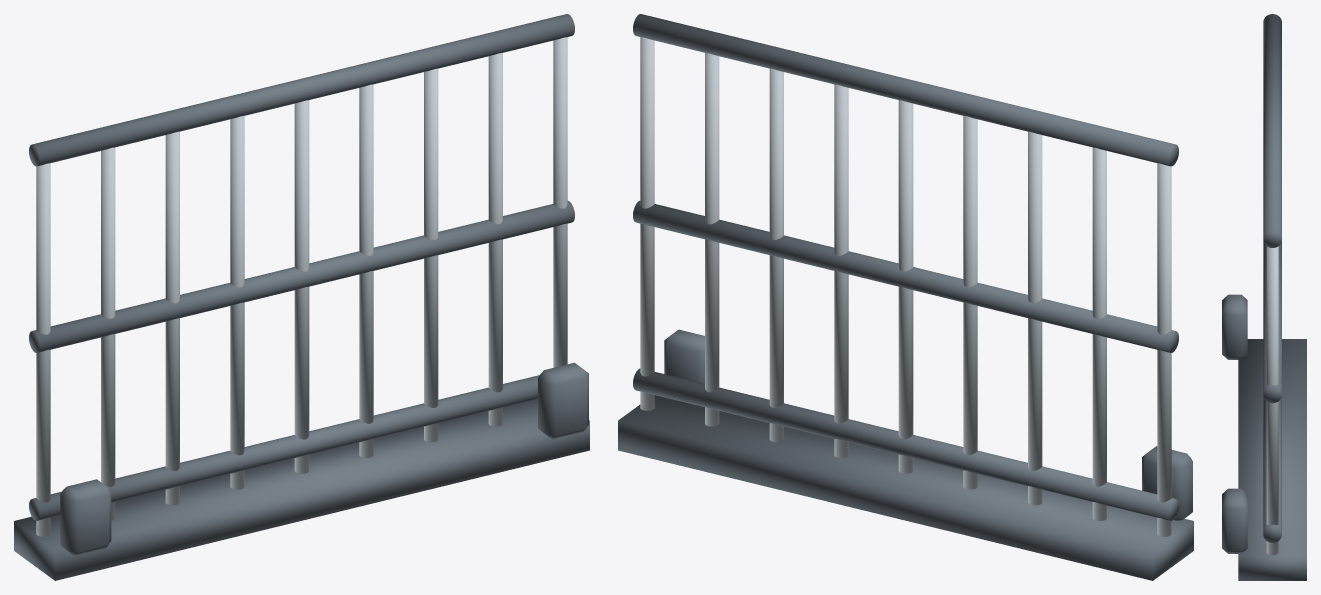
File: fence_ultra.glb
3 views of the same model, side by side, from view 1: azimuth 30°, elevation 25°; view 2: azimuth 150°, elevation 25°; view 3: azimuth 270°, elevation 25° (orthographic). The views are drawn at different scales.
Parts seen in each view (by area): view 1: Fence_steel, Fence_dark, Base_dark, Footing_dark; view 2: Fence_steel, Fence_dark, Base_dark, Footing_dark; view 3: Base_dark, Fence_dark, Fence_steel, Footing_dark.
Part boxes in pixels (x1,y1,x2,y2): Fence_steel: (36,37,567,536); Fence_dark: (29,14,574,520); Base_dark: (14,399,589,580); Footing_dark: (60,362,588,555); Fence_steel: (640,37,1171,536); Fence_dark: (633,14,1178,520); Base_dark: (618,395,1193,580); Footing_dark: (664,329,1192,520); Base_dark: (1238,339,1306,580); Fence_dark: (1263,14,1281,542); Fence_steel: (1266,246,1278,554); Footing_dark: (1222,294,1247,553).
Size of the model in its own units: 3 by 2.26 by 0.495.
